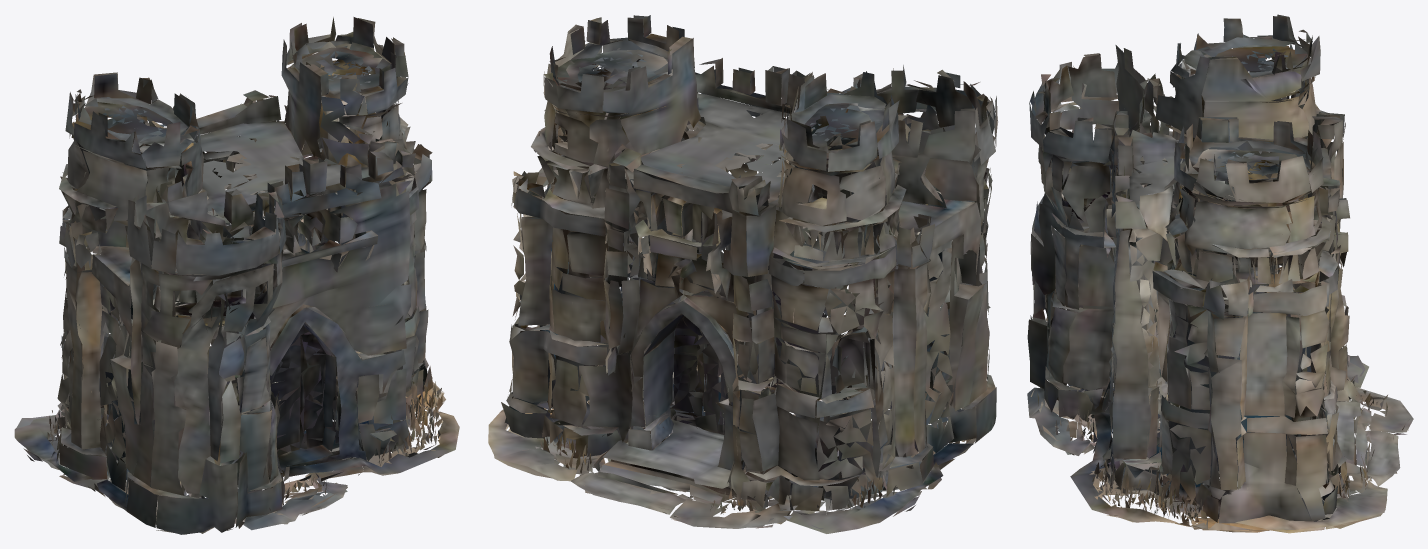
Rendered from castle.glb.
3 views of the same model, side by side, from view 1: azimuth 30°, elevation 25°; view 2: azimuth 150°, elevation 25°; view 3: azimuth 270°, elevation 25° (orthographic). The views are drawn at different scales.
Parts seen in each view (by area): view 1: reference; view 2: reference; view 3: reference.
Part boxes in pixels (bbox=[...]): reference: bbox=[14, 17, 459, 534]; reference: bbox=[488, 15, 997, 533]; reference: bbox=[1027, 14, 1413, 533].
Size of the model in its own units: 26.01 by 23.76 by 22.85.
Materials: 1 (1 with a texture image).
